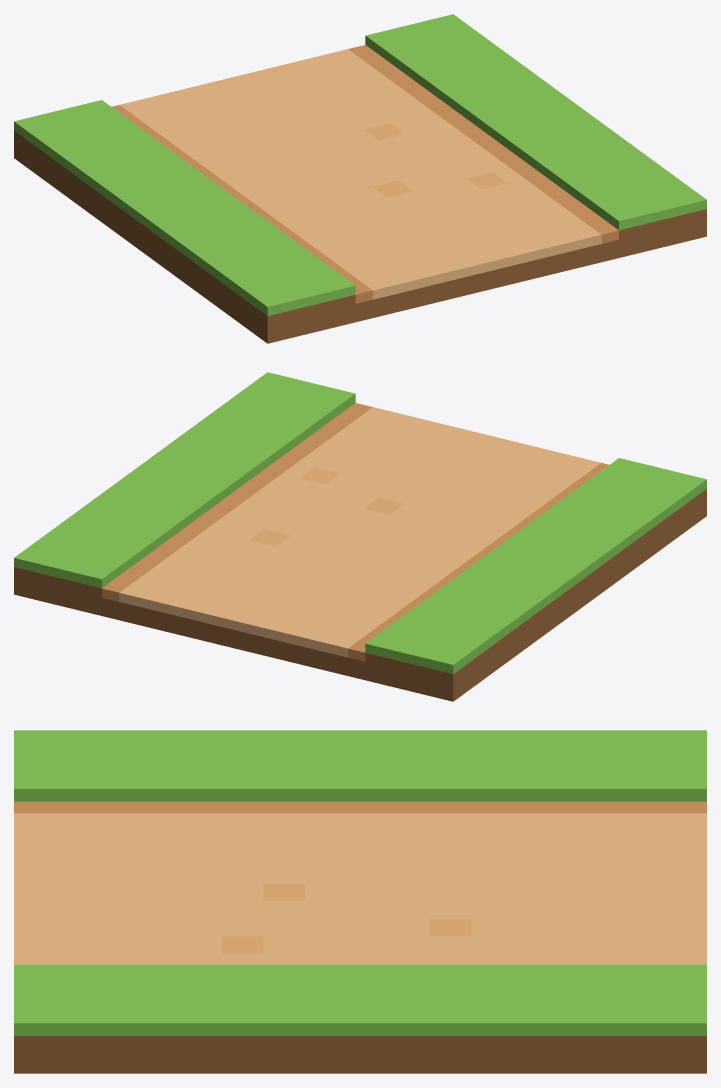
File: path_straight_specks_b.glb
The picture shows the model from 3 angles, top to bottom: view 1: azimuth 30°, elevation 25°; view 2: azimuth 150°, elevation 25°; view 3: azimuth 270°, elevation 25°; orthographic projection. The views are drawn at different scales.
Visible parts, largest first — view 1: model_0; view 2: model_0; view 3: model_0.
Part boxes in pixels (x1,y1,x2,y2): model_0: [14, 14, 706, 343]; model_0: [14, 372, 706, 701]; model_0: [14, 730, 706, 1073].
Size of the model in its own units: 2 by 0.16 by 2.
